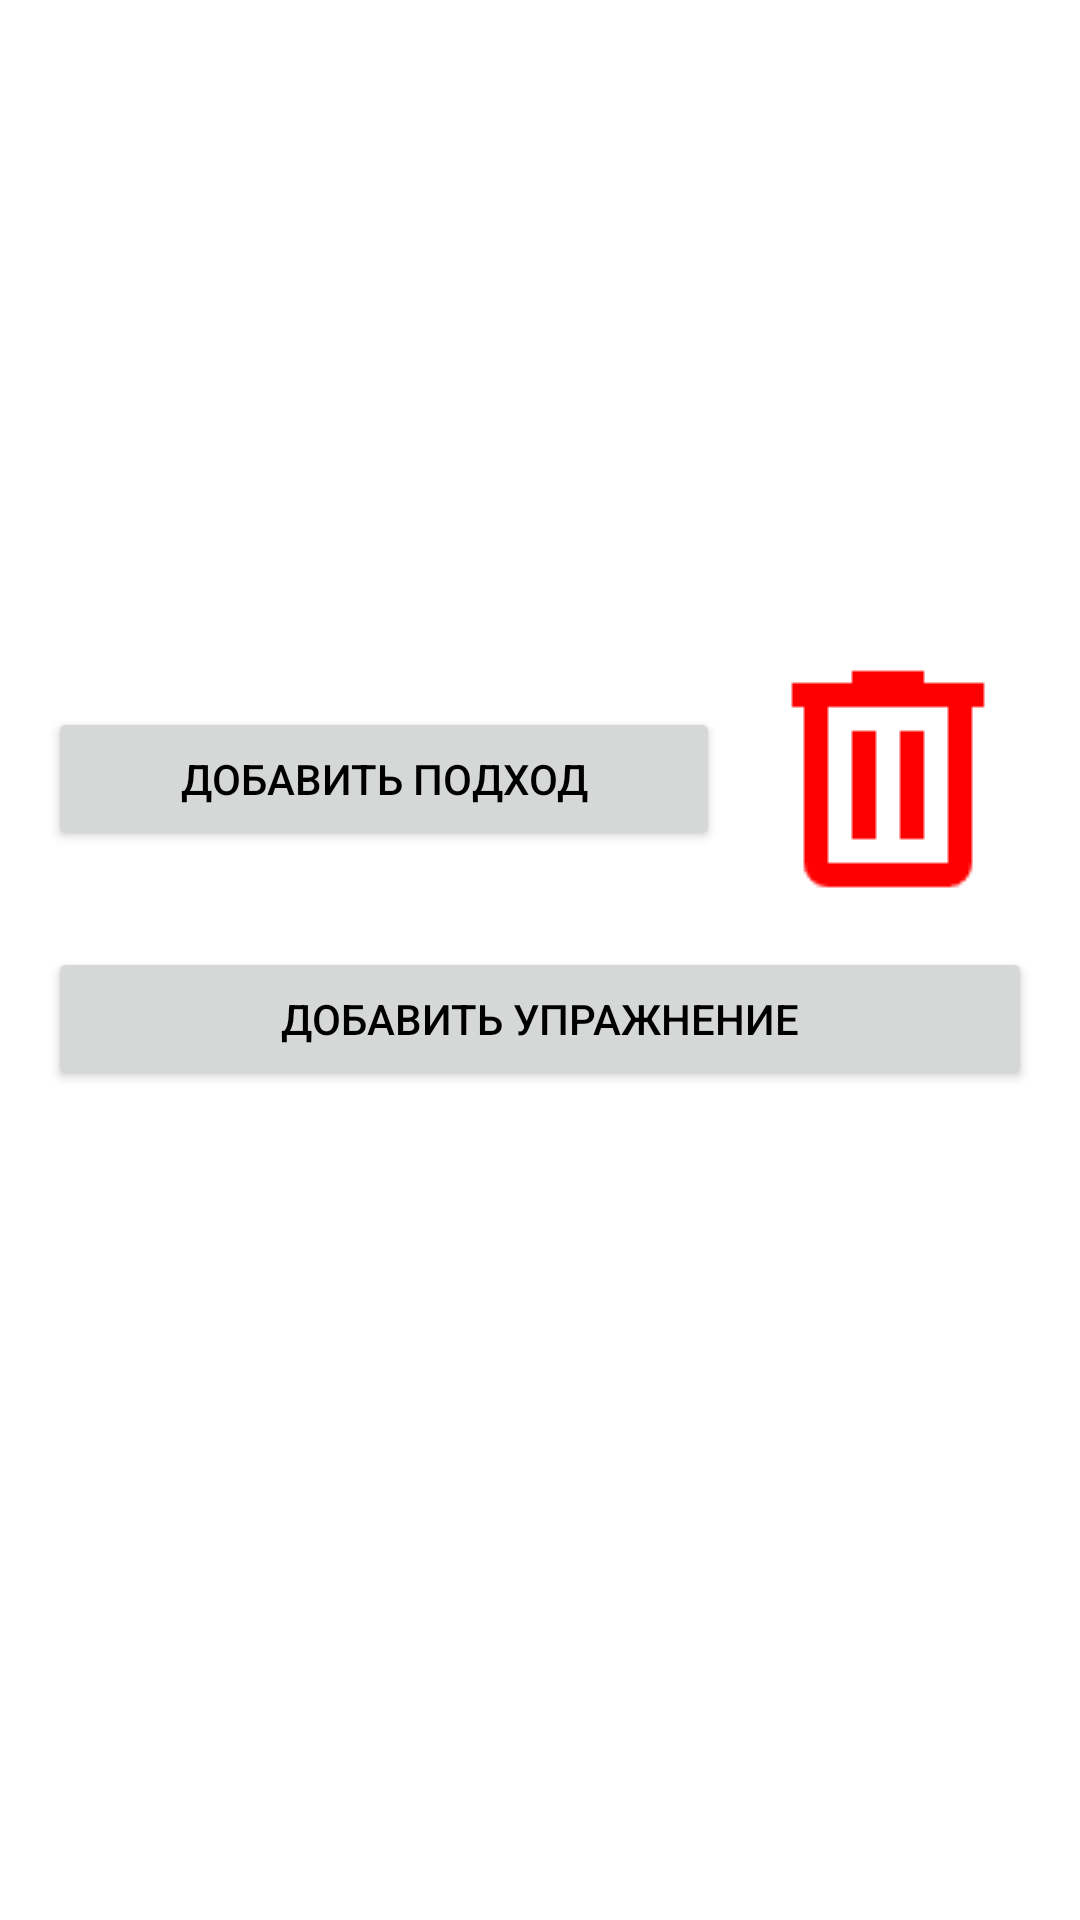

Icons on this 1080 × 1920 Android screen, each with the point to tap as (x=x, y=y):
Удалить подход: (x=888, y=779)
